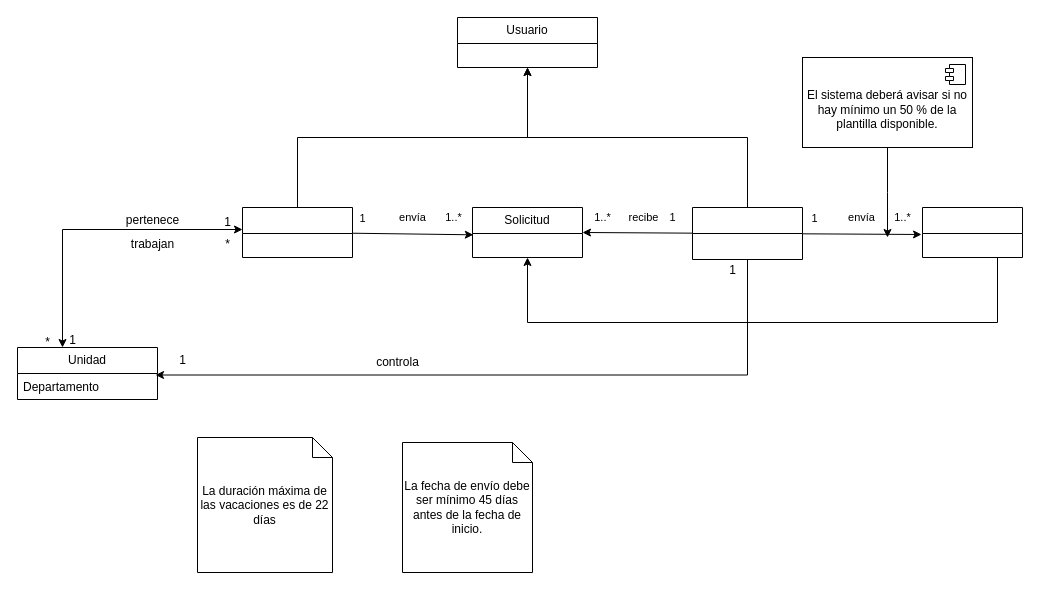
Image size: 1040x590. Some labels were removed from this diagram. The shapes that lost their labels are listed below. From the top down, each one's centre as x and y in pixels, then its label:
(297,232): Personal Médico
(747,233): Supervisor
(972,232): Respuesta
